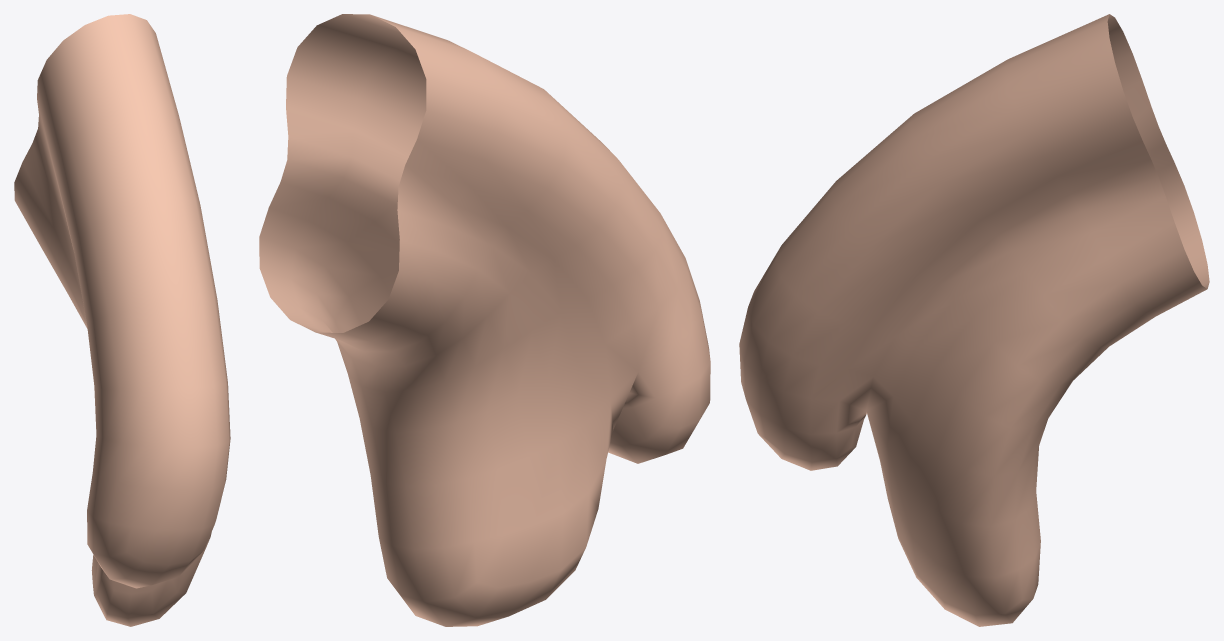
3 renders of one model, left to right at view 1: azimuth 30°, elevation 25°; view 2: azimuth 150°, elevation 25°; view 3: azimuth 270°, elevation 25°, orthographic. The views are drawn at different scales.
Parts seen in each view (by area): view 1: morty_mouth; view 2: morty_mouth; view 3: morty_mouth.
Part boxes in pixels (x1,y1,x2,y2): morty_mouth: (14, 14, 230, 626); morty_mouth: (259, 14, 710, 626); morty_mouth: (739, 14, 1209, 626).
Size of the model in its own units: 0.1696 by 0.4265 by 0.2975.
